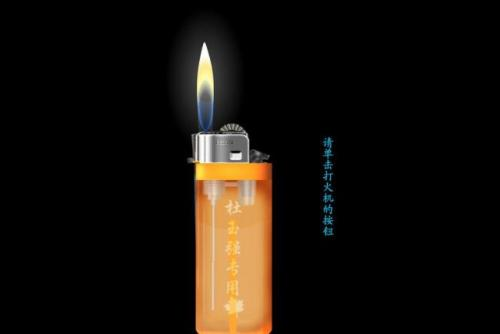fire: (186, 35, 229, 141)
